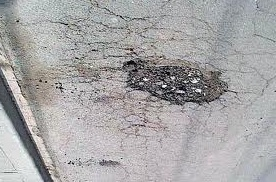pothole: (119, 54, 230, 106)
